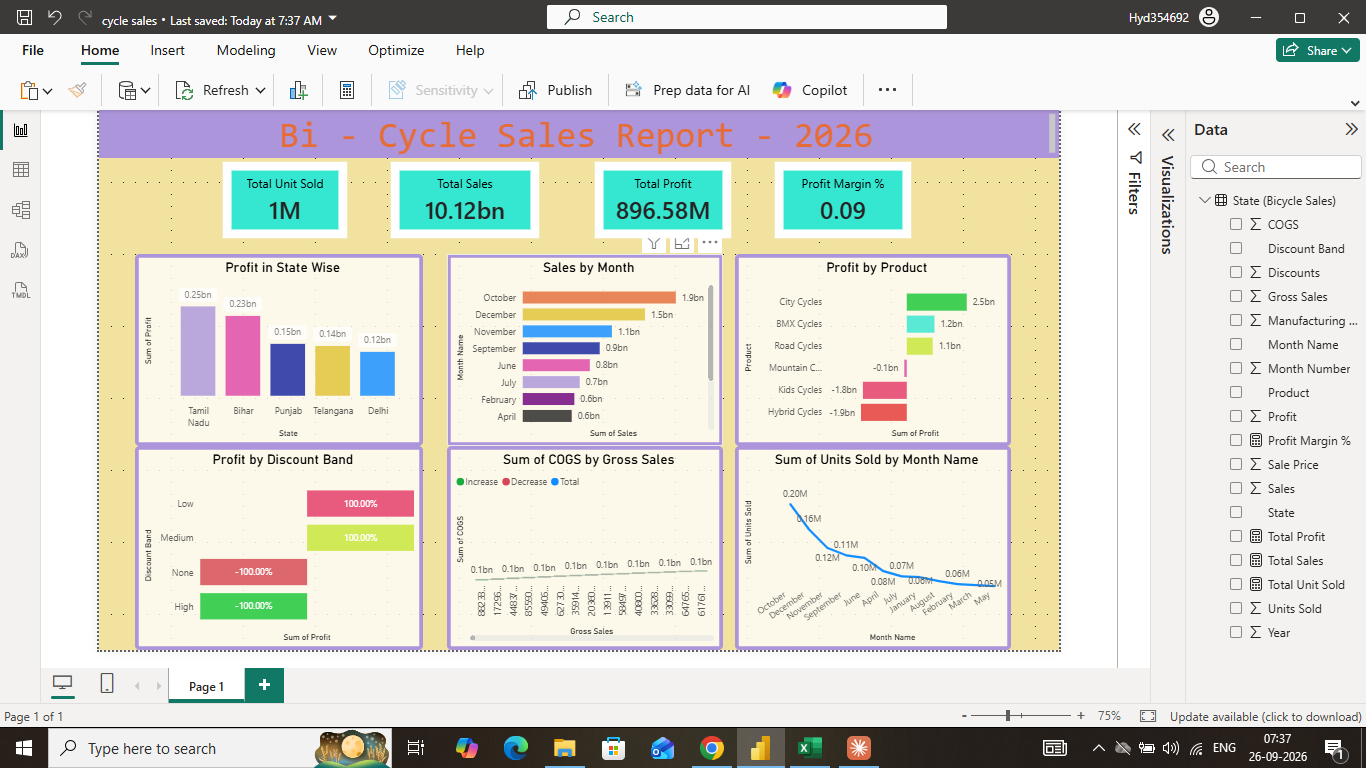

The page's visual inventory and layout, read from the dashboard file:
{"tool":"powerbi","page":{"name":"Page 1","canvas":[1280,720],"ordinal":0},"visuals":[{"type":"lineStackedColumnComboChart","title":"Profit in State Wise","fields":{"Category":["State (Bicycle Sales).State"],"Y":["Sum(State (Bicycle Sales).Profit)"]},"box":[48,192,384,256],"z":0},{"type":"textbox","box":[0,0,1280,64],"z":1000},{"type":"barChart","title":"Sales by Month","fields":{"Y":["Sum(State (Bicycle Sales).Sales)"],"Category":["State (Bicycle Sales).Month Name"]},"box":[464,192,368,256],"z":2000},{"type":"clusteredBarChart","title":"Profit by Product","fields":{"Category":["State (Bicycle Sales).Product"],"Y":["Sum(State (Bicycle Sales).Profit)"]},"box":[848,192,368,256],"z":3000},{"type":"hundredPercentStackedBarChart","title":"Profit by Discount Band","fields":{"Category":["State (Bicycle Sales).Discount Band"],"Y":["Sum(State (Bicycle Sales).Profit)"]},"box":[48,448,384,272],"z":4000},{"type":"waterfallChart","fields":{"Category":["State (Bicycle Sales).Gross Sales"],"Y":["Sum(State (Bicycle Sales).COGS)"]},"box":[464,448,368,272],"z":5000},{"type":"lineChart","fields":{"Category":["State (Bicycle Sales).Month Name"],"Y":["Sum(State (Bicycle Sales).Units Sold)"]},"box":[848,448,368,272],"z":6000},{"type":"cardVisual","fields":{"Data":["State (Bicycle Sales).Total Unit Sold"]},"box":[160,64,176,112],"z":7000},{"type":"cardVisual","fields":{"Data":["State (Bicycle Sales).Total Sales"]},"box":[384,64,208,112],"z":8000},{"type":"cardVisual","fields":{"Data":["State (Bicycle Sales).Total Profit"]},"box":[656,64,192,112],"z":9000},{"type":"cardVisual","fields":{"Data":["State (Bicycle Sales).Profit Margin %"]},"box":[896,64,192,112],"z":10000}]}

Visuals, with their boxes in screenshot pixels (x1, y1, x2, y2):
"Profit in State Wise" lineStackedColumnComboChart: locate(15, 166, 419, 436)
textbox: locate(0, 0, 1312, 32)
"Sales by Month" barChart: locate(453, 166, 840, 436)
"Profit by Product" clusteredBarChart: locate(857, 166, 1244, 436)
"Profit by Discount Band" hundredPercentStackedBarChart: locate(15, 436, 419, 722)
waterfallChart - State (Bicycle Sales).Gross Sales x Sum(State (Bicycle Sales).COGS): locate(453, 436, 840, 722)
lineChart - State (Bicycle Sales).Month Name x Sum(State (Bicycle Sales).Units Sold): locate(857, 436, 1244, 722)
cardVisual - State (Bicycle Sales).Total Unit Sold: locate(133, 32, 318, 150)
cardVisual - State (Bicycle Sales).Total Sales: locate(369, 32, 587, 150)
cardVisual - State (Bicycle Sales).Total Profit: locate(655, 32, 857, 150)
cardVisual - State (Bicycle Sales).Profit Margin %: locate(907, 32, 1109, 150)
